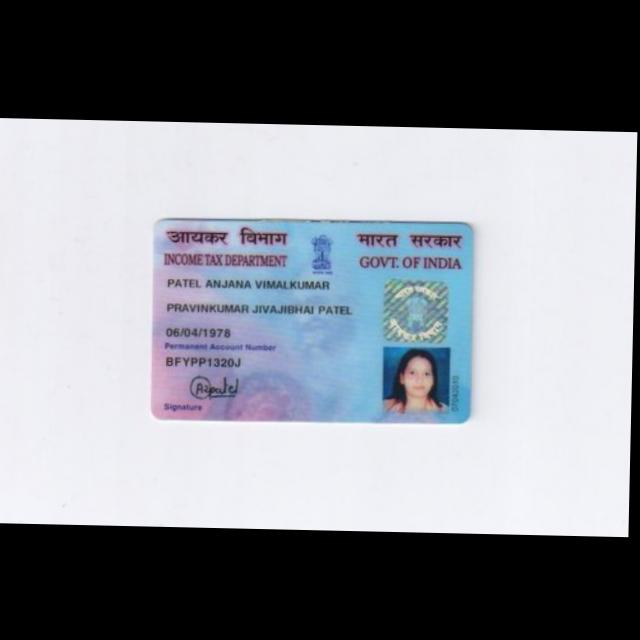pan: (146, 210, 481, 429)
